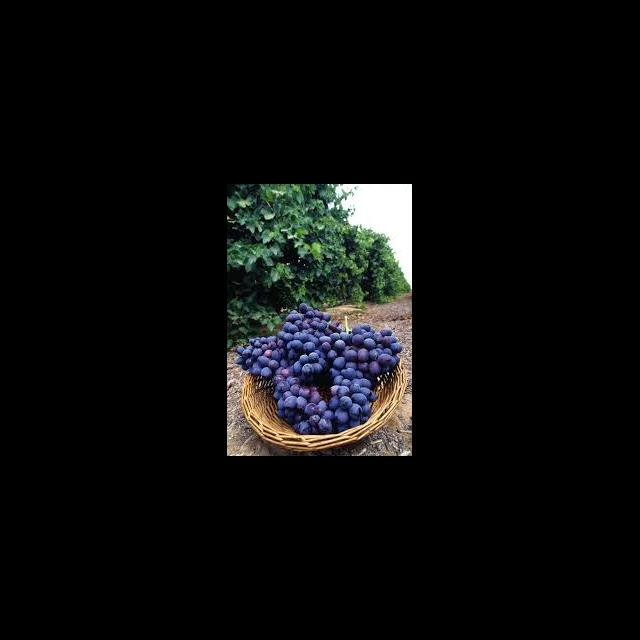grape: (235, 302, 402, 434)
